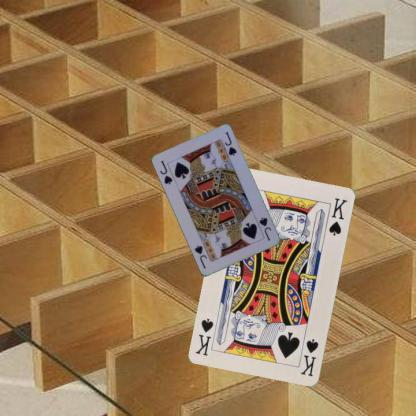Js: (158, 158, 174, 186), (256, 215, 272, 242)
Ks: (298, 336, 320, 378)
